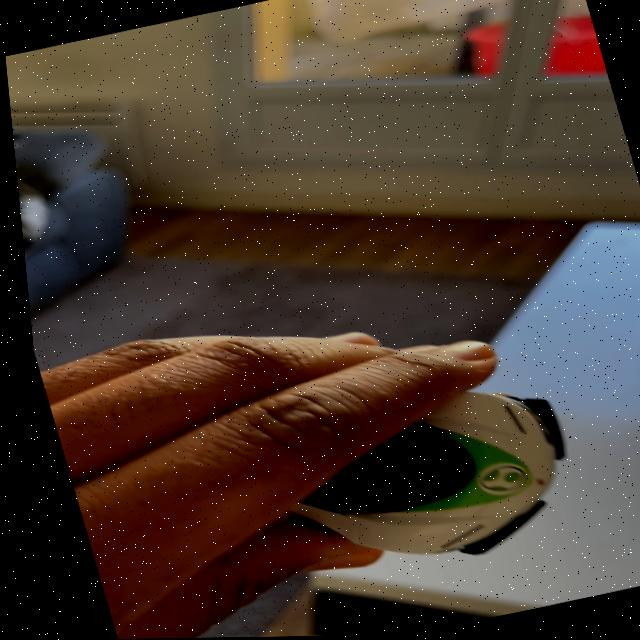yoshi: (211, 354, 612, 638)
